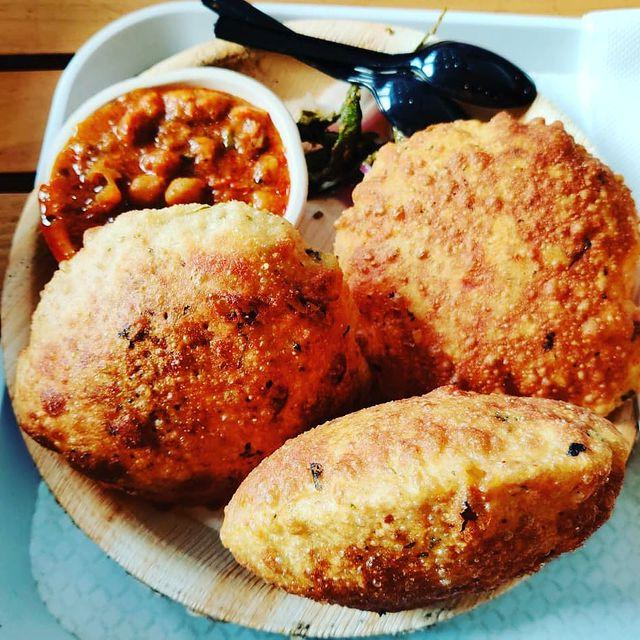Chole: (46, 61, 324, 211)
